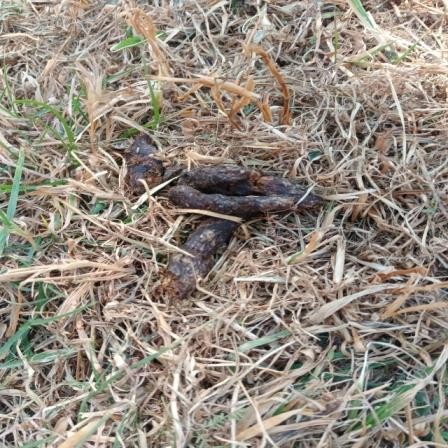dog-poop: (124, 134, 328, 288)
